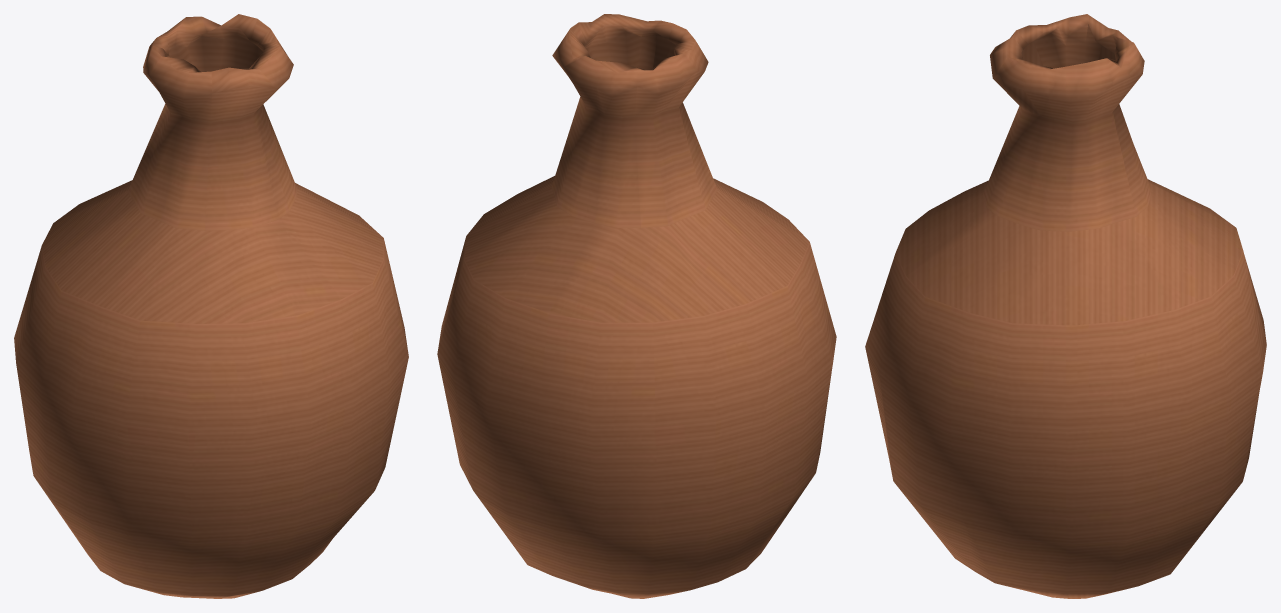
The model's file is flask.glb.
3 renders of one model, left to right at view 1: azimuth 30°, elevation 25°; view 2: azimuth 150°, elevation 25°; view 3: azimuth 270°, elevation 25°, orthographic.
Parts seen in each view (by area): view 1: flask; view 2: flask; view 3: flask.
Boxes of the visible parts, x1,y1,x2,y2 form: flask: (14, 14, 408, 598); flask: (437, 14, 836, 598); flask: (865, 14, 1266, 598).
Size of the model in its own units: 0.3808 by 0.5678 by 0.3833.
1 material, 1 textured.
